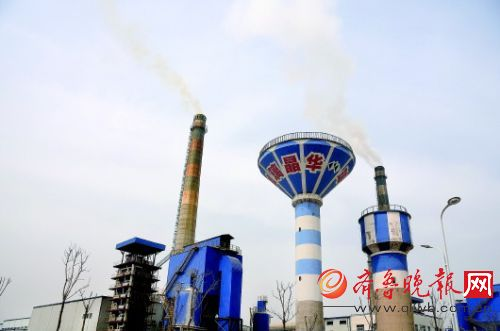dust: (306, 59, 393, 170), (142, 44, 211, 119)
